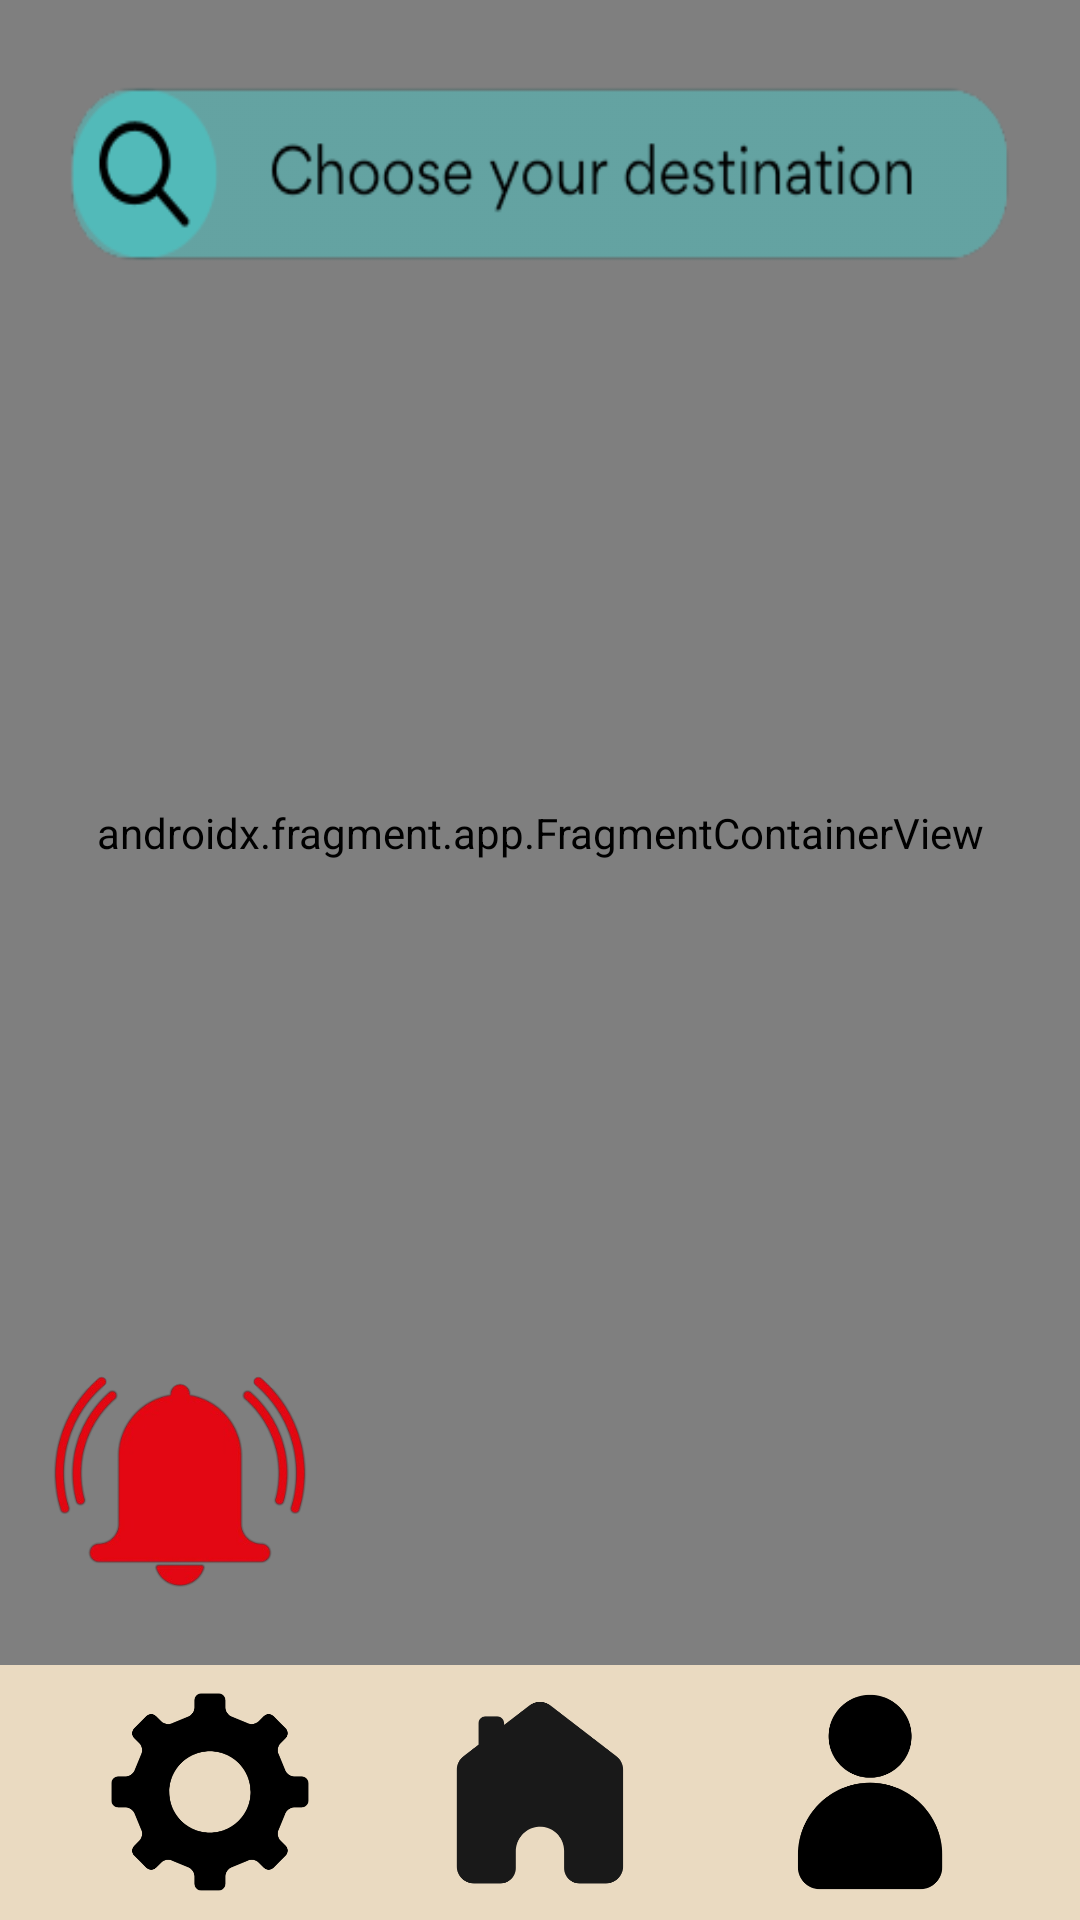

Named icons in this screenshot (1080px×1920px) and their bounding boxes, (x1, y1, x2, y2):
home: (456, 1702, 623, 1884)
profile: (798, 1695, 943, 1889)
settings: (111, 1693, 309, 1891)
